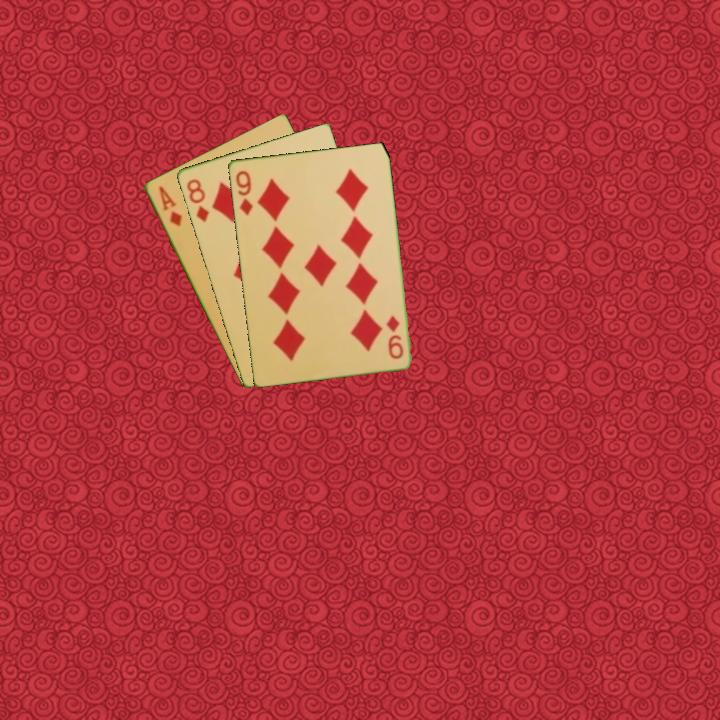8d: (183, 175, 212, 225)
9d: (232, 167, 255, 218), (383, 312, 406, 362)
Ad: (155, 182, 184, 229)
